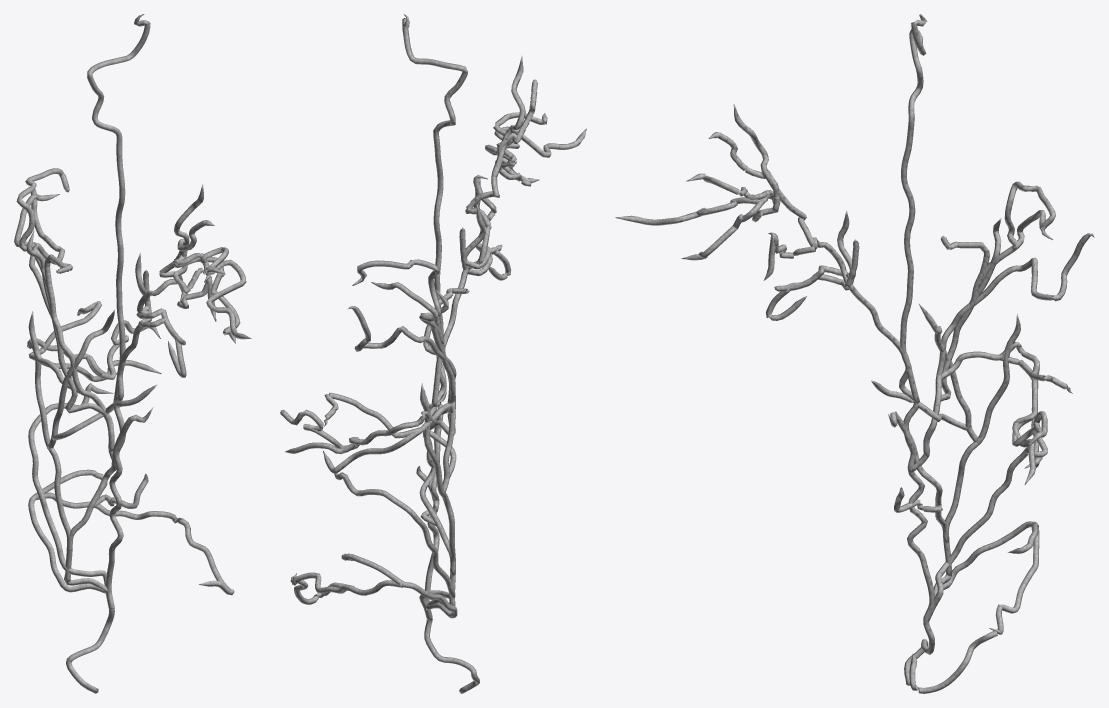
File: SM_Climber_01a.fbx
3 views of the same model, side by side, from view 1: azimuth 30°, elevation 25°; view 2: azimuth 150°, elevation 25°; view 3: azimuth 270°, elevation 25° (orthographic). The views are drawn at different scales.
Parts seen in each view (by area): view 1: SM_Climber_01a_LOD0; view 2: SM_Climber_01a_LOD0; view 3: SM_Climber_01a_LOD0.
Part boxes in pixels (x1,y1,x2,y2): SM_Climber_01a_LOD0: (14,14,251,693); SM_Climber_01a_LOD0: (280,14,586,693); SM_Climber_01a_LOD0: (615,14,1094,693).
Size of the model in its own units: 328 by 755 by 1215.
